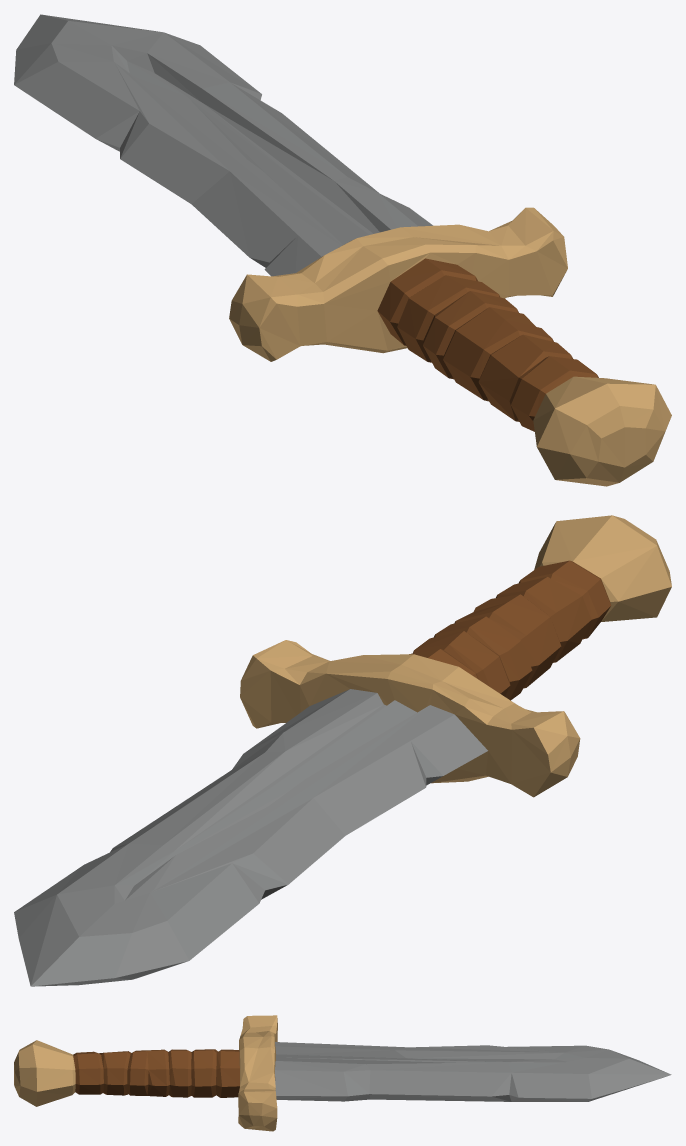
Rendered from MedievalSword.fbx.
3 views of the same model, one above another, from view 1: azimuth 30°, elevation 25°; view 2: azimuth 150°, elevation 25°; view 3: azimuth 270°, elevation 25° (orthographic). The views are drawn at different scales.
Parts seen in each view (by area): view 1: MedievalSword; view 2: MedievalSword; view 3: MedievalSword.
Part boxes in pixels (x1=…): MedievalSword: x1=14, y1=14, x2=671, y2=486; MedievalSword: x1=14, y1=515, x2=671, y2=986; MedievalSword: x1=14, y1=1015, x2=671, y2=1131.
Bounding box in the file's own units: 0.1365 × 0.4354 × 0.0418.
